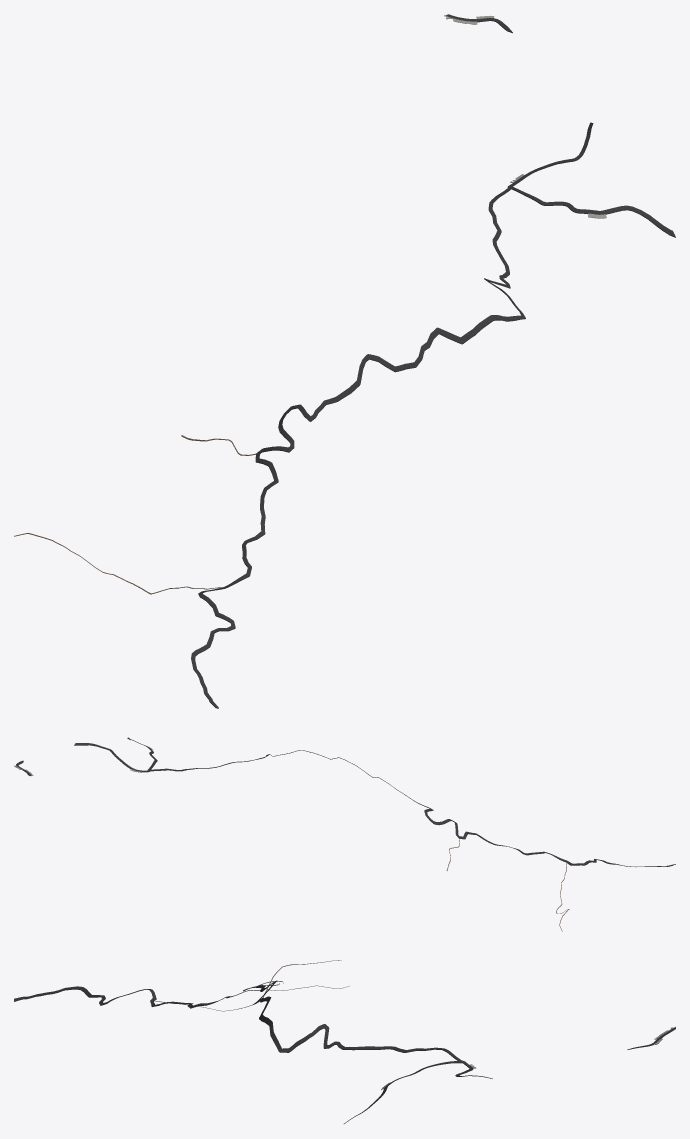
Rendered from 15-27356-14874.72ba2abe.glb.
3 views of the same model, one above another, from view 1: azimuth 30°, elevation 25°; view 2: azimuth 150°, elevation 25°; view 3: azimuth 270°, elevation 25° (orthographic). The views are drawn at different scales.
Size of the model in its own units: 1174 by 452 by 1166.
